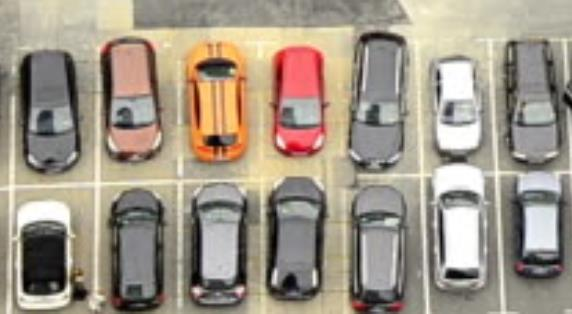car: (344, 31, 411, 172), (99, 35, 165, 163), (428, 164, 492, 294), (105, 187, 169, 313), (265, 176, 328, 304), (187, 180, 249, 309), (19, 48, 82, 174), (503, 40, 565, 165), (350, 184, 409, 314), (187, 41, 249, 164), (12, 199, 78, 312), (270, 46, 330, 159), (511, 168, 569, 280), (431, 55, 484, 158)
